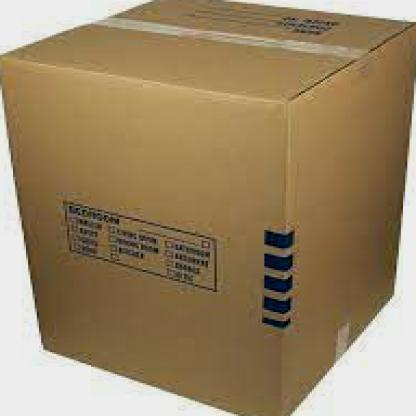package: (1, 0, 416, 416)
